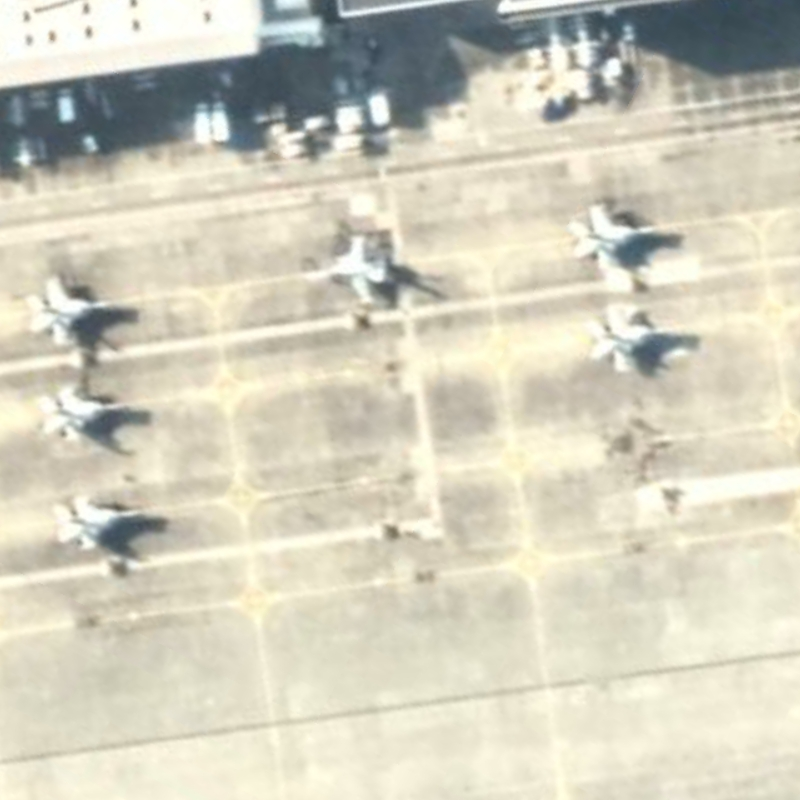A16: (564, 189, 686, 280), (19, 266, 137, 355), (290, 223, 402, 314), (39, 477, 155, 564), (581, 294, 694, 380), (32, 374, 145, 450)
